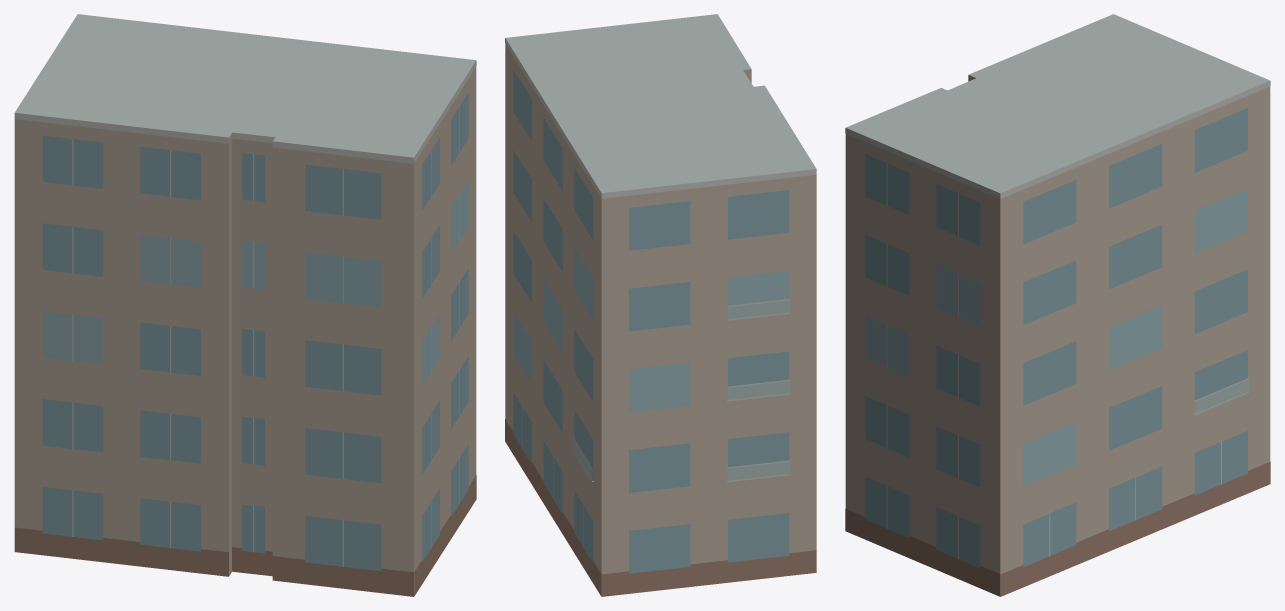
Rendered from survey-upis-32885758.glb.
The picture shows the model from 3 angles, left to right: view 1: azimuth 30°, elevation 25°; view 2: azimuth 150°, elevation 25°; view 3: azimuth 270°, elevation 25°; orthographic projection. The views are drawn at different scales.
Parts seen in each view (by area): view 1: survey-upis-32885758.tmp; view 2: survey-upis-32885758.tmp; view 3: survey-upis-32885758.tmp.
Part boxes in pixels (bbox=[...]): survey-upis-32885758.tmp: bbox=[14, 14, 476, 596]; survey-upis-32885758.tmp: bbox=[505, 14, 816, 596]; survey-upis-32885758.tmp: bbox=[845, 14, 1270, 596].
Size of the model in its own units: 16.61 by 17.4 by 16.62.
